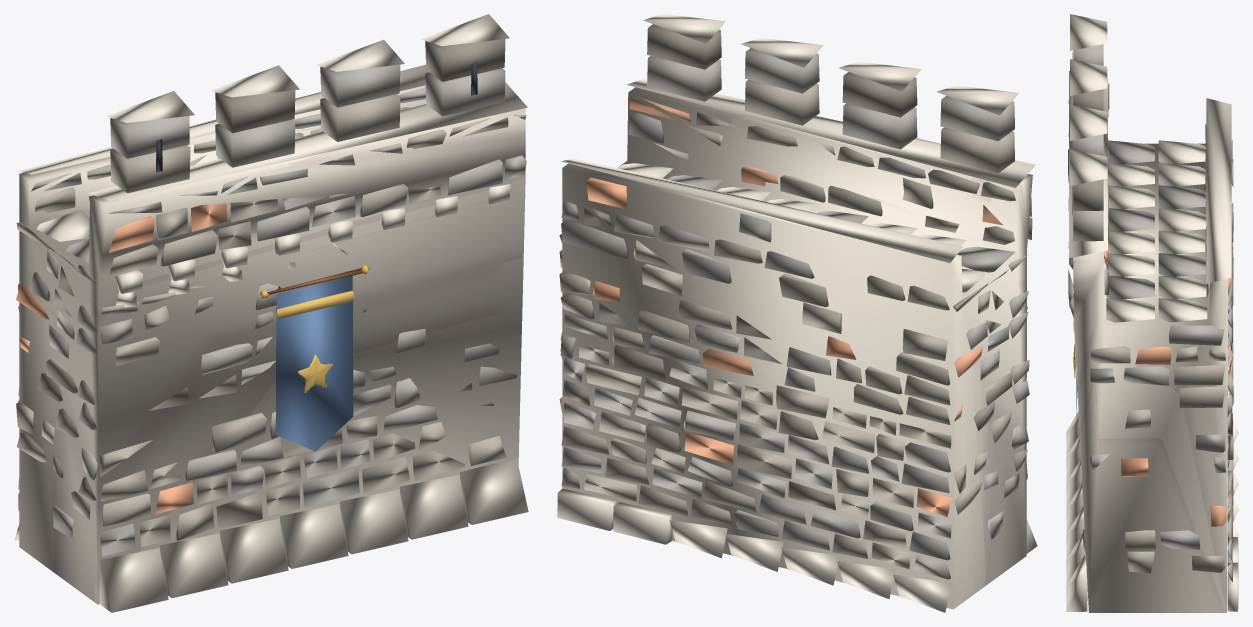
3 renders of one model, left to right at view 1: azimuth 30°, elevation 25°; view 2: azimuth 150°, elevation 25°; view 3: azimuth 270°, elevation 25°, orthographic. The views are drawn at different scales.
Visible parts, largest first — view 1: castle-wall_details, castle-wall_body, castle-wall_stonework; view 2: castle-wall_details, castle-wall_body, castle-wall_stonework; view 3: castle-wall_details, castle-wall_body, castle-wall_stonework.
Boxes of the visible parts, <box> form: castle-wall_details: <box>14,14,528,612</box>; castle-wall_body: <box>19,85,525,604</box>; castle-wall_stonework: <box>16,203,493,514</box>; castle-wall_details: <box>557,14,1037,612</box>; castle-wall_body: <box>562,87,1032,609</box>; castle-wall_stonework: <box>559,96,1031,516</box>; castle-wall_details: <box>1066,14,1238,612</box>; castle-wall_body: <box>1073,143,1228,612</box>; castle-wall_stonework: <box>1068,100,1233,526</box>.
Size of the model in its own units: 6.13 by 6.62 by 2.43.
Materials: 11 (1 with a texture image).
